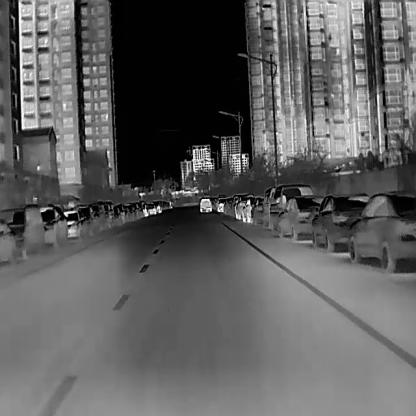car: (348, 188, 415, 270), (310, 190, 369, 252), (0, 202, 45, 260), (266, 184, 312, 237), (274, 193, 323, 242), (38, 202, 67, 247), (73, 202, 96, 236), (63, 208, 81, 236), (234, 192, 252, 218), (241, 195, 256, 222), (250, 196, 263, 224), (199, 197, 211, 211), (214, 197, 225, 211), (146, 200, 156, 214)
